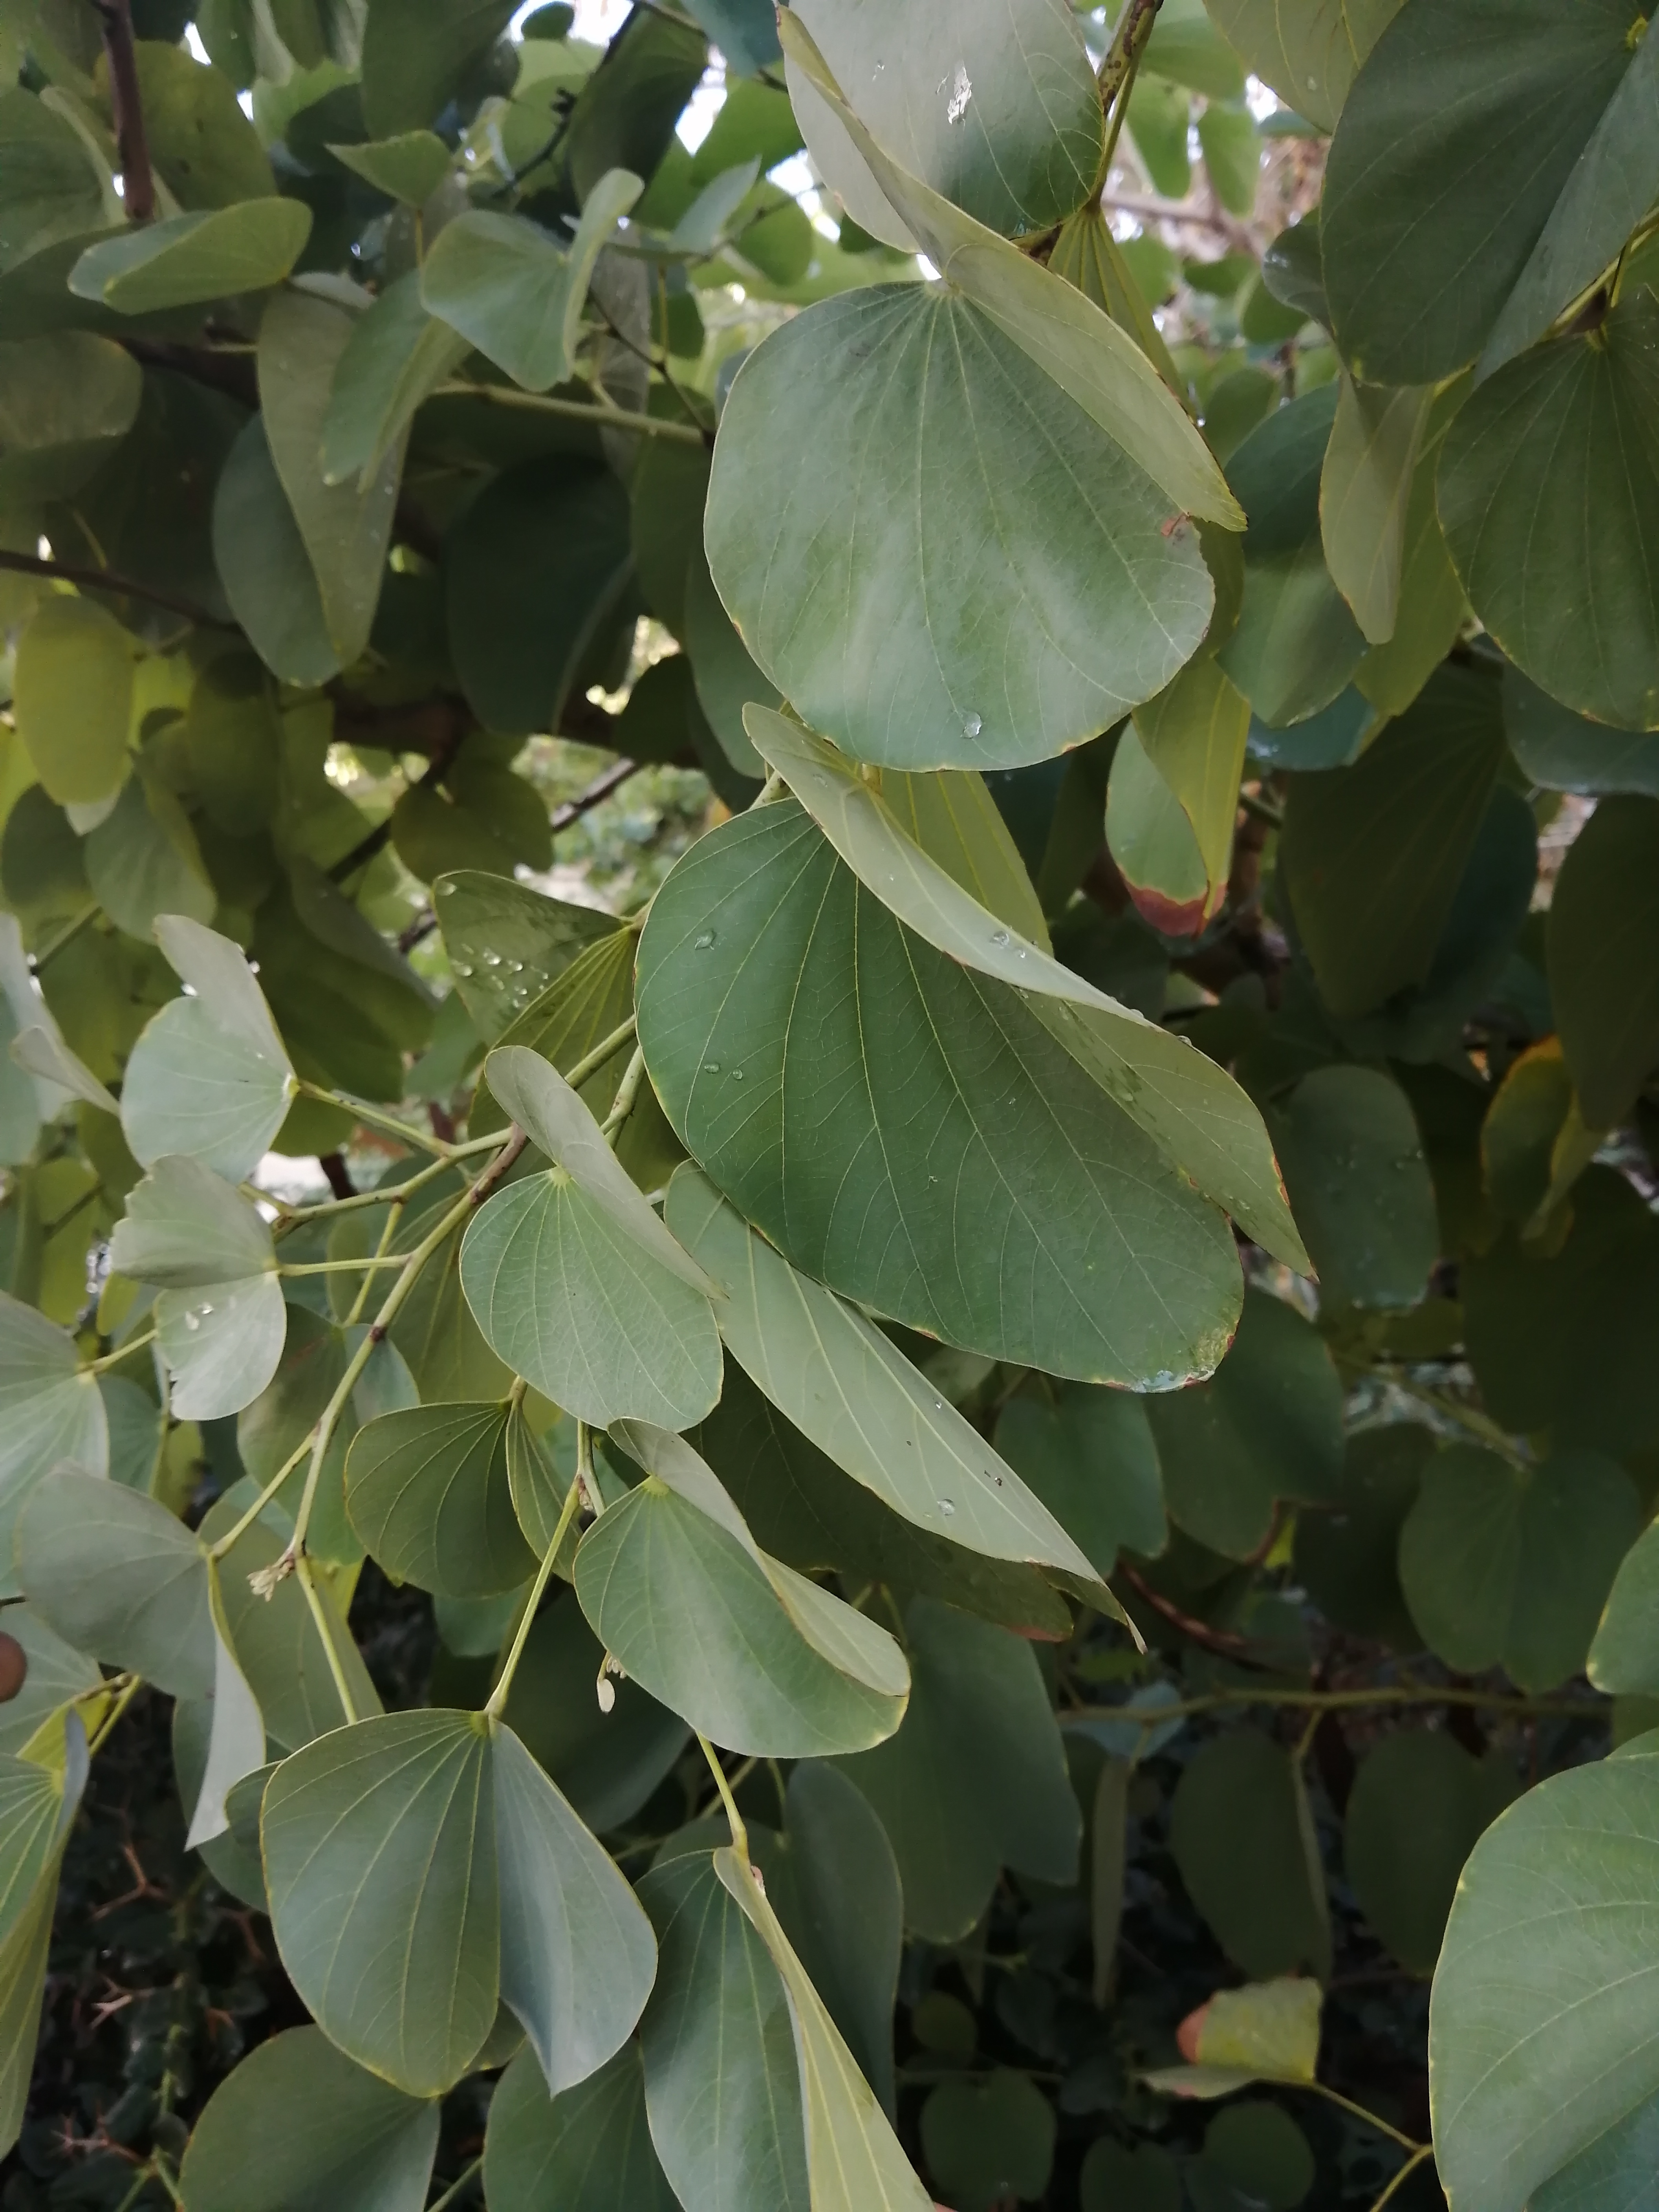healthy: (568, 664, 1307, 1402), (762, 52, 1216, 770), (239, 1663, 657, 2102), (549, 1400, 917, 1810), (455, 1029, 755, 1474), (64, 1118, 317, 1425), (1378, 1440, 1638, 1686), (125, 892, 321, 1198)
